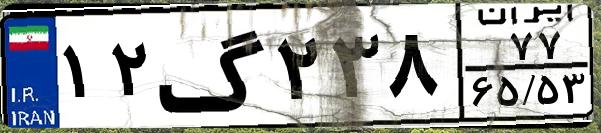1: (57, 26, 110, 100)
2: (270, 28, 330, 110), (110, 28, 156, 98)
3: (330, 28, 385, 110), (560, 70, 590, 125)
5: (495, 70, 520, 125), (535, 70, 560, 125)
6: (470, 70, 495, 125)
7: (537, 27, 568, 80), (508, 27, 537, 80)
8: (385, 28, 445, 110)
گ: (156, 12, 270, 120)
